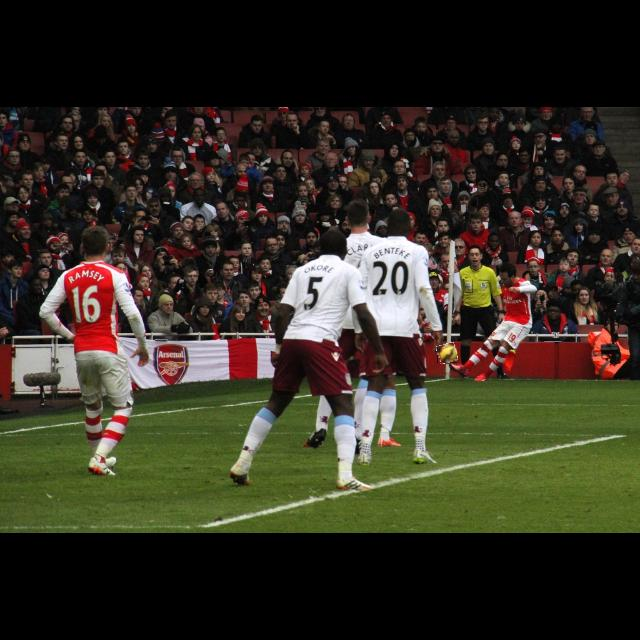Football: (437, 343, 457, 363)
